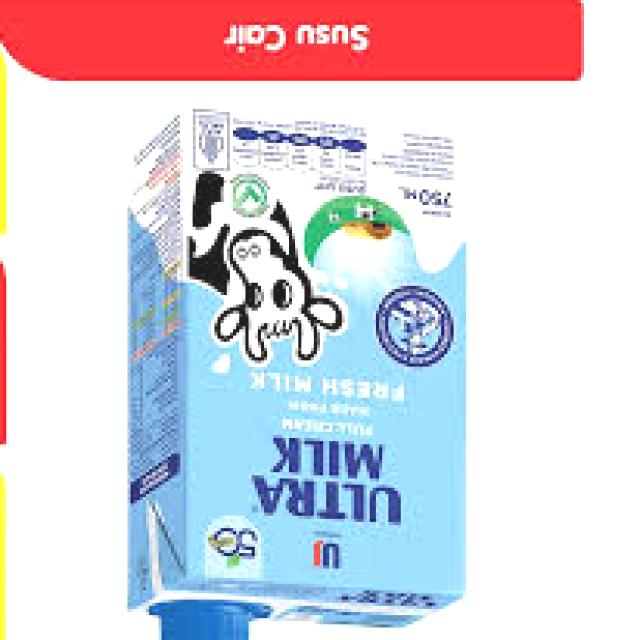susu_kotak: (115, 96, 491, 640)
